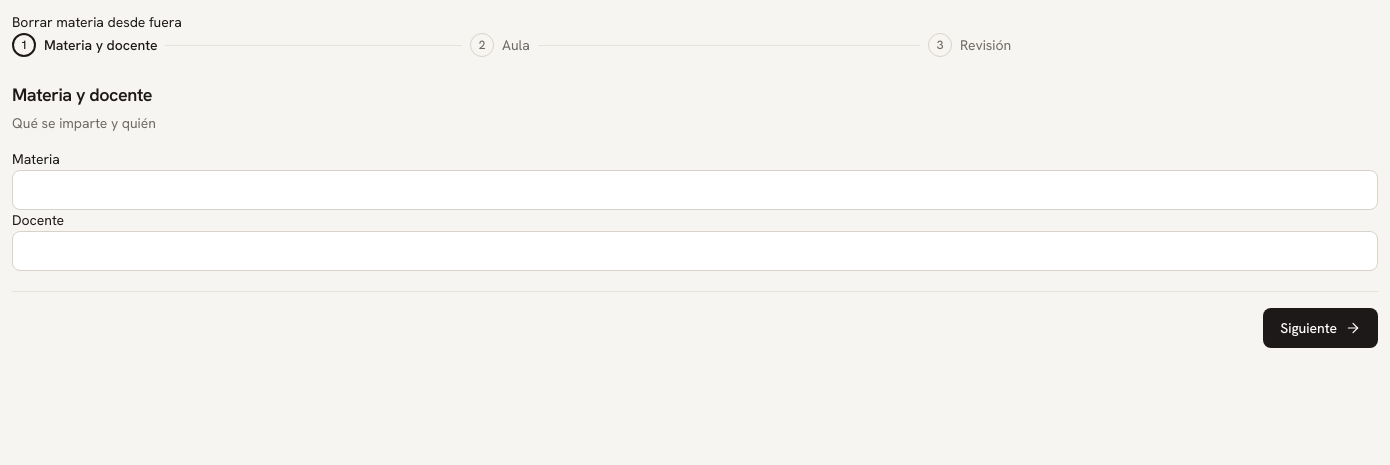
Test case: Asistente · revisión y envío › «Editar» vuelve al paso exacto y «Volver a la revisión» regresa sin recorrer los demás
The width and height of the screenshot is (1390, 465).
Type "Álgebra" into the field labelled "Materia" at (695, 190), box 12,170 -> 1378,210
Type "Ana" into the field labelled "Docente" at (695, 251), box 12,231 -> 1378,271
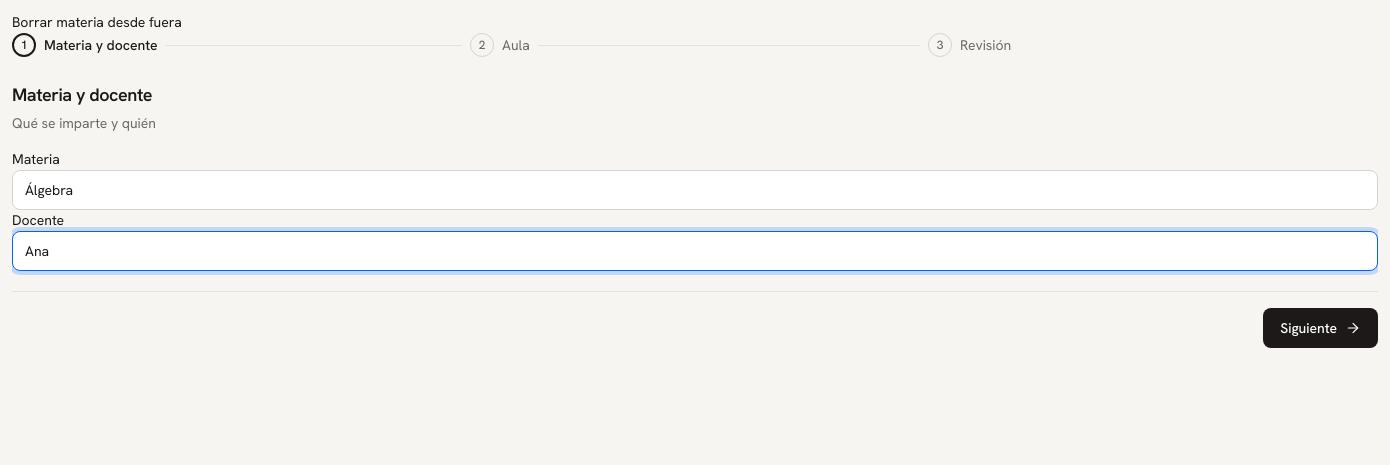
Click the button "Siguiente" at (1321, 328), box 1263,308 -> 1378,348
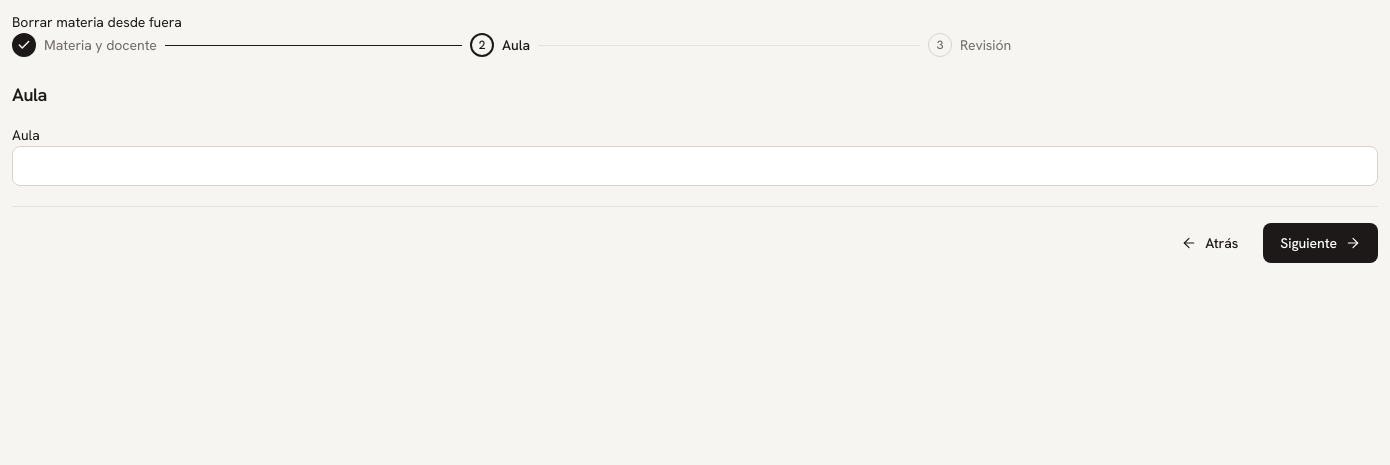
Type "A-12" into the field labelled "Aula" at (695, 166), box 12,146 -> 1378,186
Click the button "Siguiente" at (1321, 243), box 1263,223 -> 1378,263
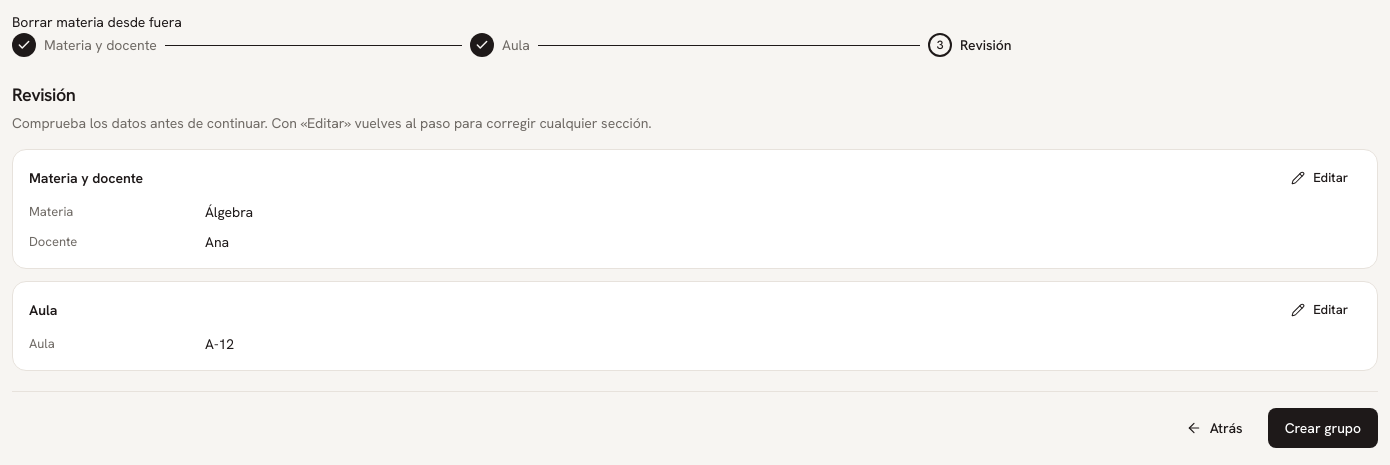
Click the button with aria-label "Editar Materia y docente" at (1320, 178), box 1278,162 -> 1361,194
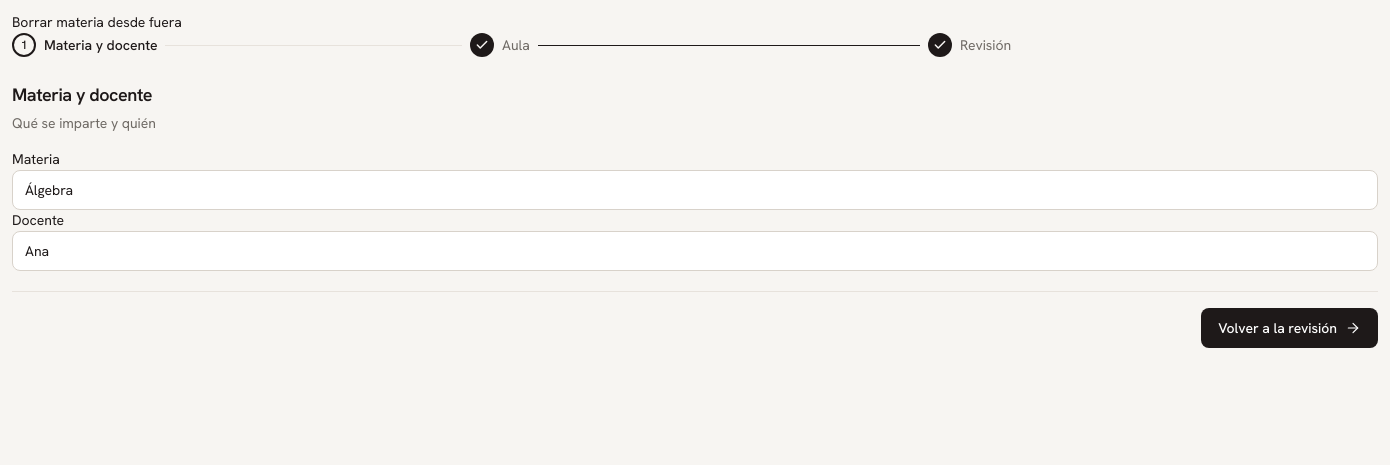
Expected: the heading "Materia y docente" is shown, 12,83 -> 152,106
Replace the text in the field labelled "Materia" with "Cálculo" at (695, 190), box 12,170 -> 1378,210
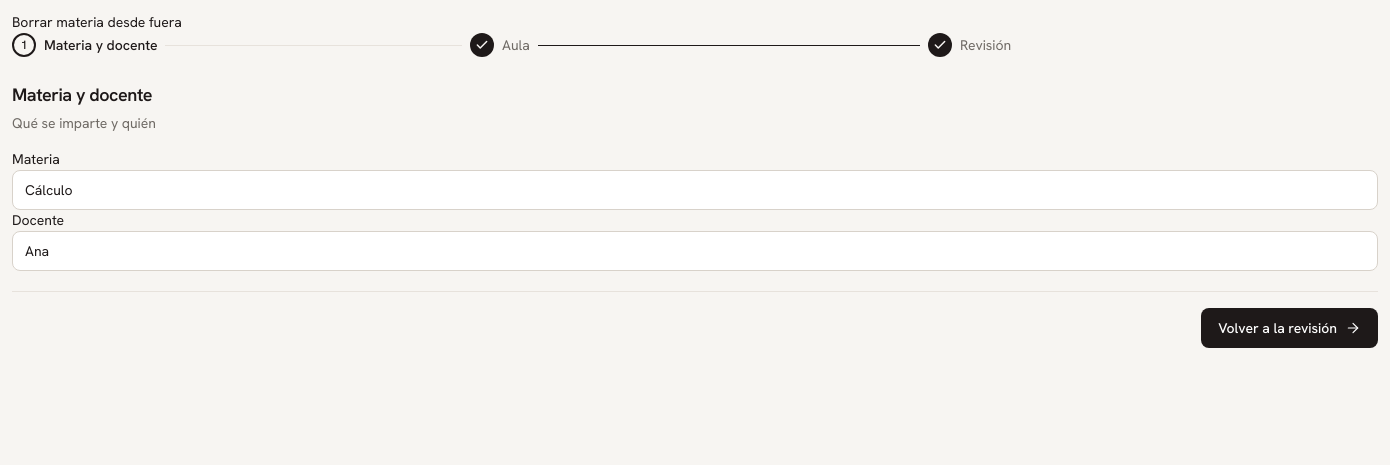
Click the button "Volver a la revisión" at (1290, 328), box 1201,308 -> 1378,348
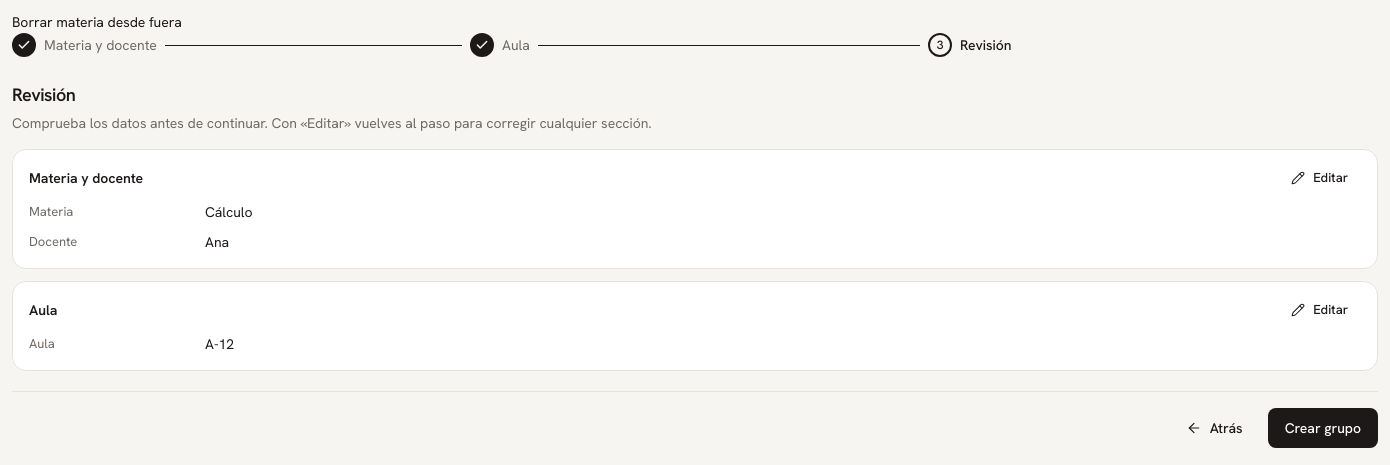
Expected: the heading "Revisión" is shown, 12,83 -> 76,106
Expected: the element "Materia y docente" shows "Cálculo", 205,203 -> 252,221
